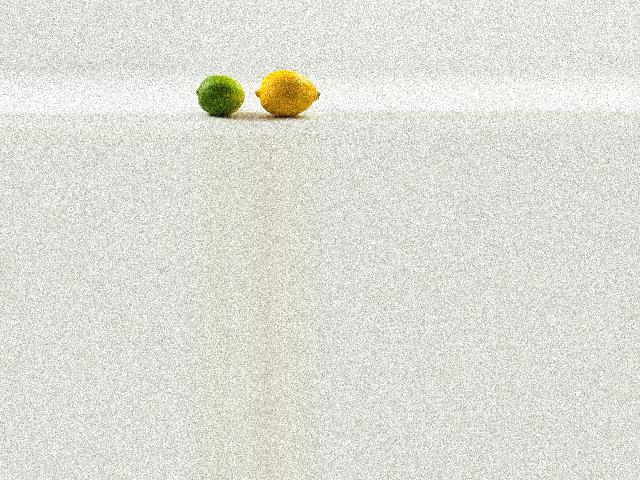lemon: (258, 67, 318, 118)
